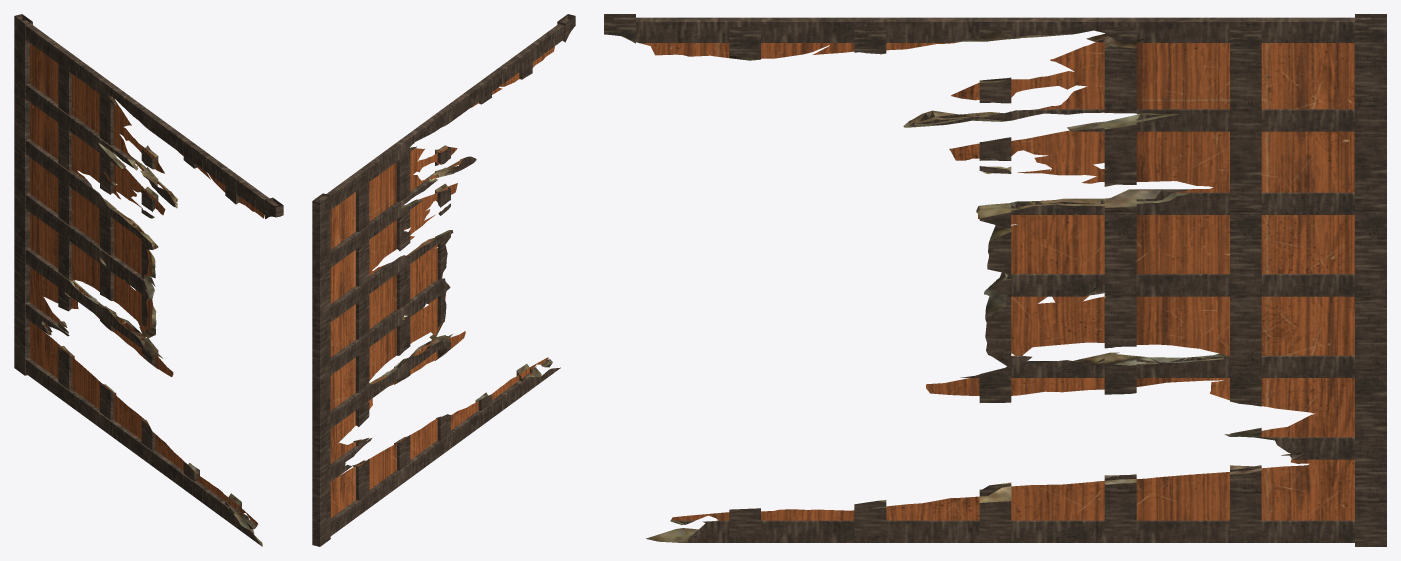
Rendered from SM_Roof_01.fbx.
3 views of the same model, side by side, from view 1: azimuth 30°, elevation 25°; view 2: azimuth 150°, elevation 25°; view 3: azimuth 270°, elevation 25° (orthographic). The views are drawn at different scales.
Visible parts, largest first — view 1: SM_Roof_01_LOD0; view 2: SM_Roof_01_LOD0; view 3: SM_Roof_01_LOD0.
Part boxes in pixels (x1,y1,x2,y2): SM_Roof_01_LOD0: (14, 14, 283, 546); SM_Roof_01_LOD0: (312, 14, 575, 546); SM_Roof_01_LOD0: (604, 14, 1386, 546).
Size of the model in its own units: 6.17 by 267 by 198.
